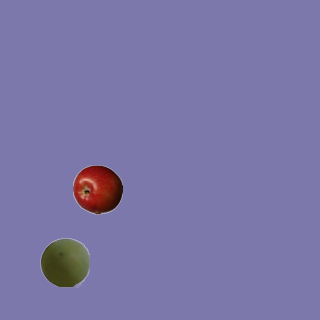Apple Braeburn: (72, 164, 122, 214)
Grape White 4: (39, 237, 89, 287)
